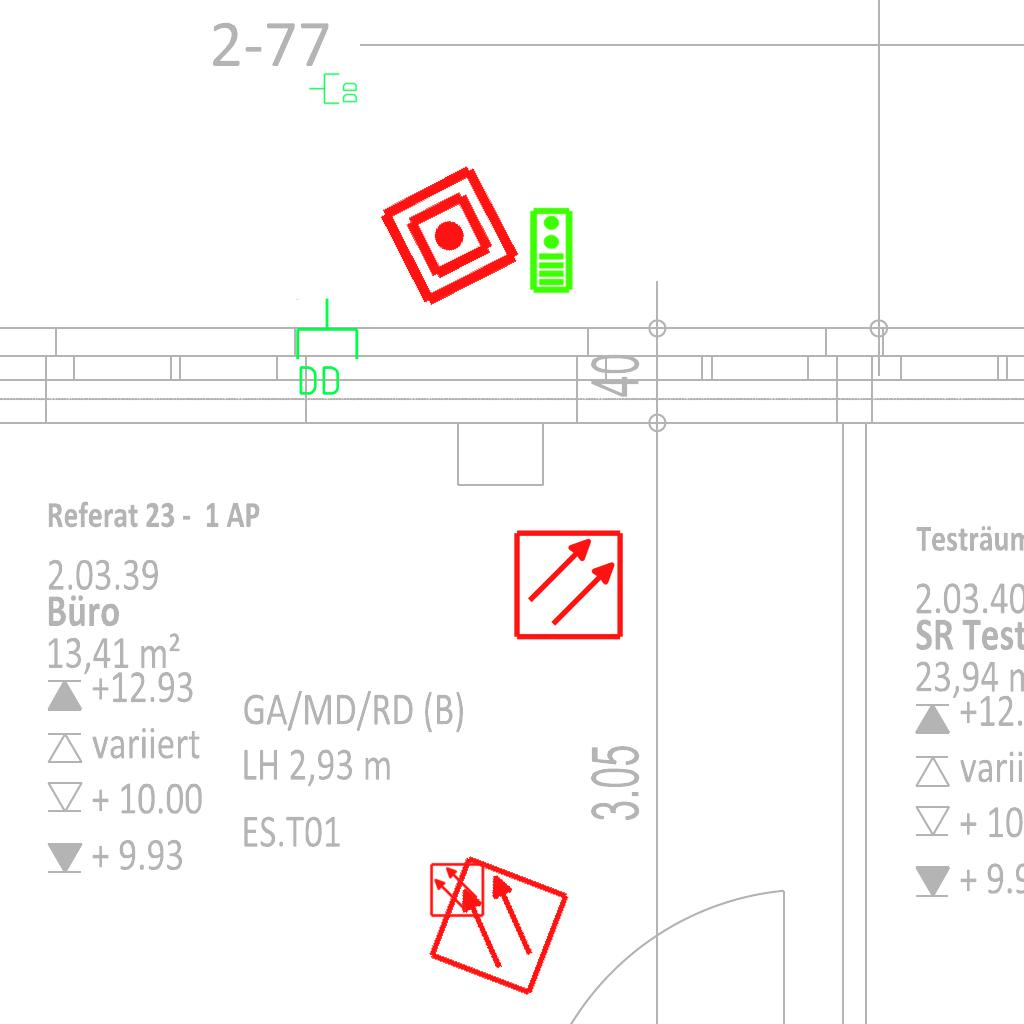Datenanschluss_zweifach: (292, 296, 361, 399), (308, 72, 359, 106)
Gegensprechanlage_mit_Video: (527, 206, 574, 294)
NAM-Nichtautomatischer_Melder: (373, 159, 526, 312)
RMO_Rauchmelder_optischer: (425, 852, 572, 999), (512, 528, 625, 641), (429, 862, 485, 918)
